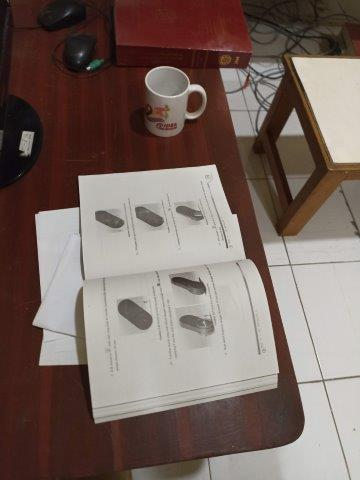kertas: (35, 165, 279, 424)
